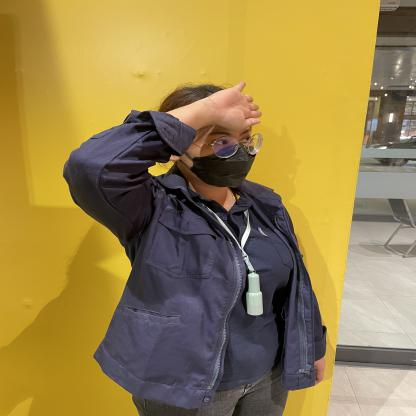Sick: (144, 74, 294, 140)
